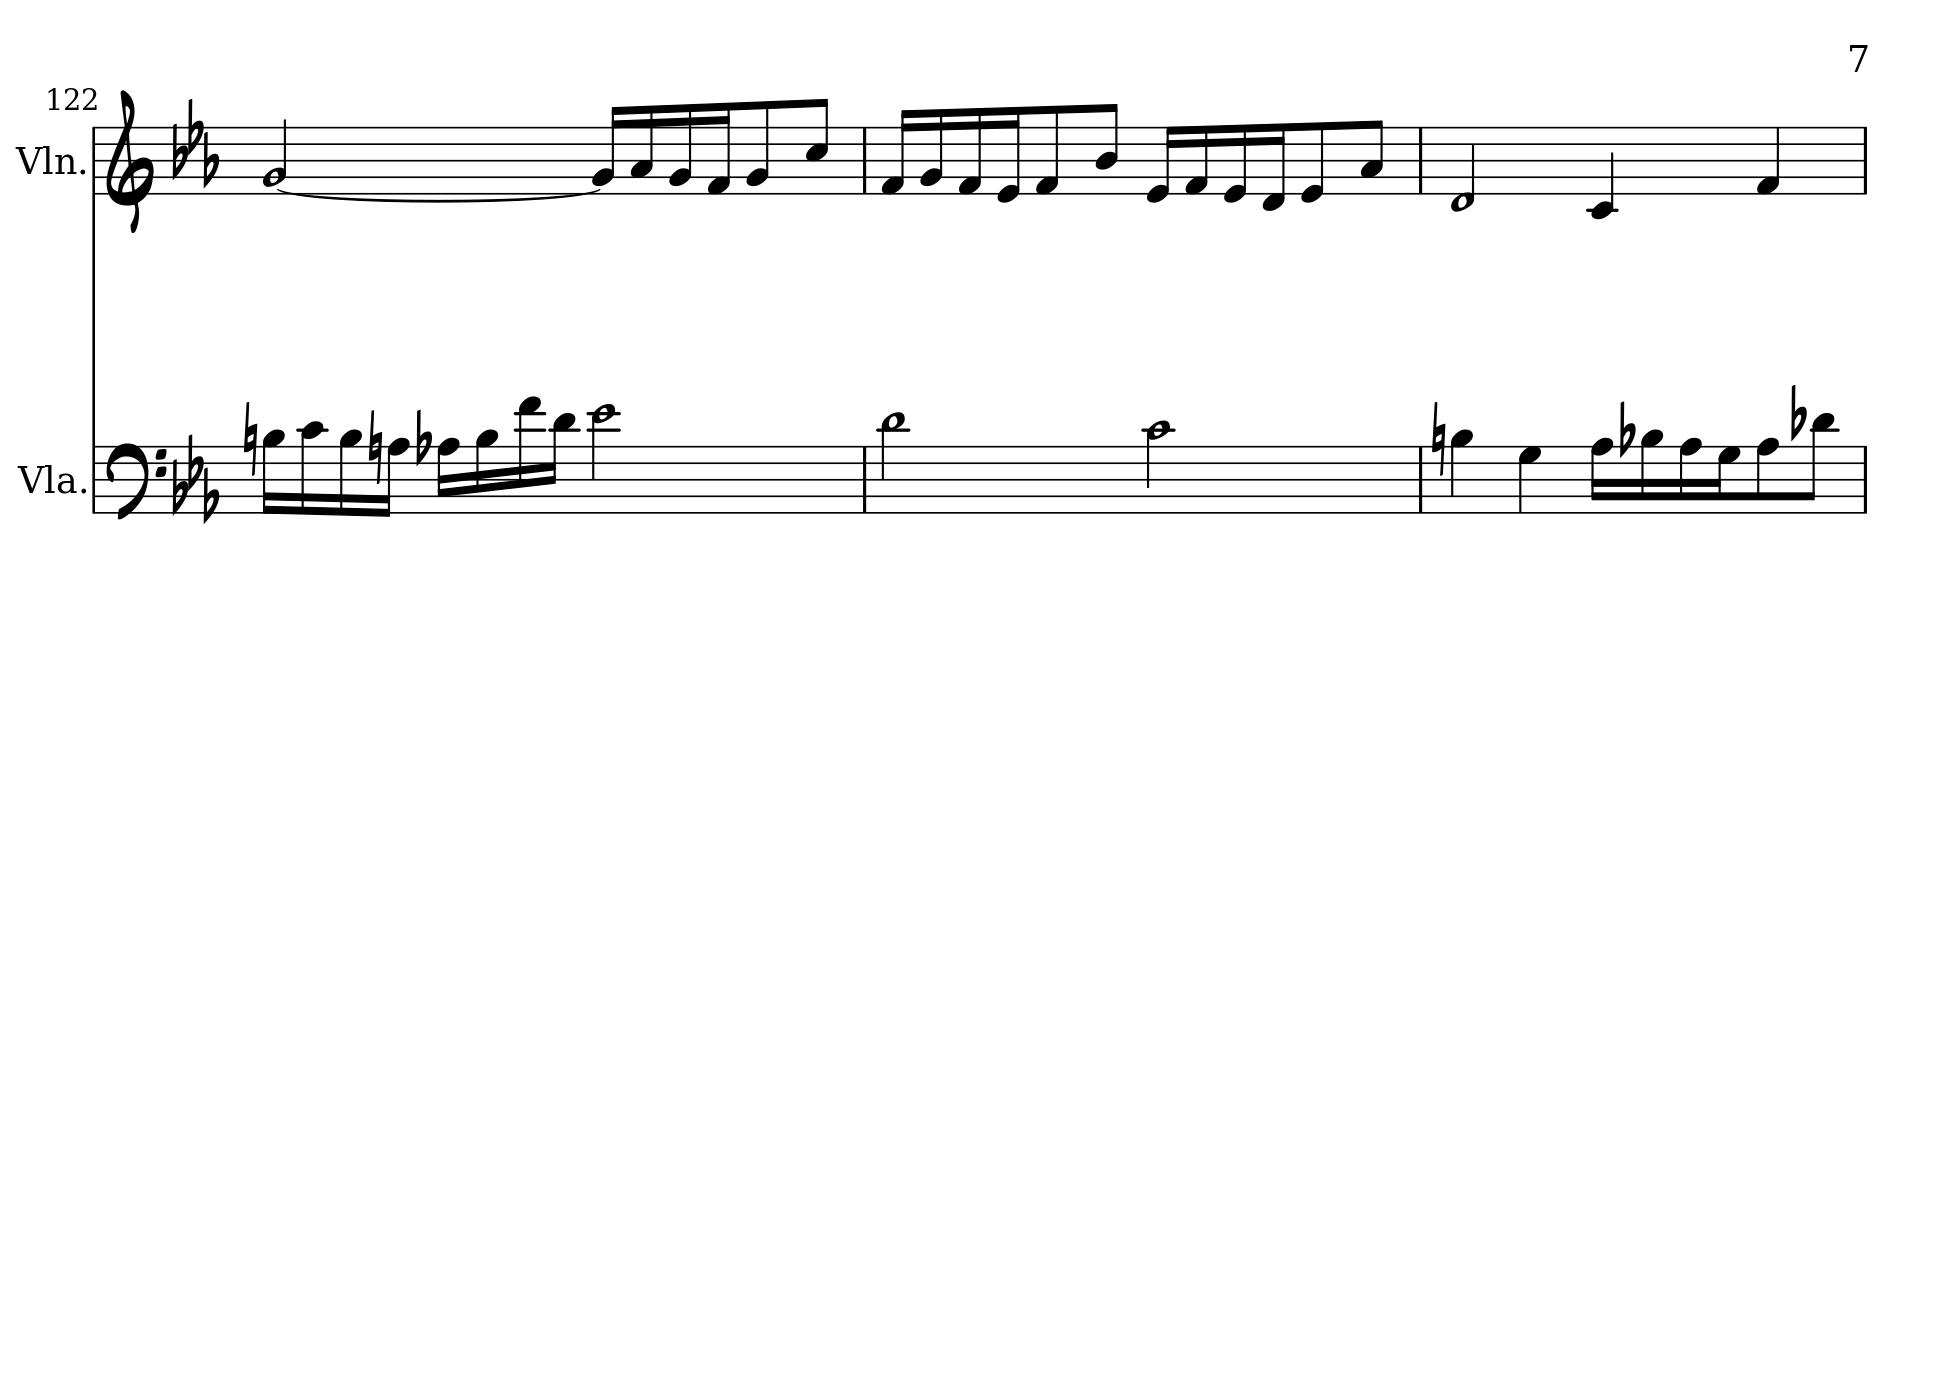1: (46, 85, 60, 112)
16_-1: (1260, 121, 1288, 213)
16_0: (994, 103, 1023, 205), (1144, 123, 1179, 205), (1221, 121, 1249, 205)
16_1: (877, 106, 913, 196), (703, 100, 733, 196), (955, 105, 984, 196), (1183, 123, 1212, 196)
16_10: (298, 418, 327, 517)
16_11: (544, 409, 577, 514)
16_13: (514, 394, 543, 514)
16_2: (589, 103, 624, 196), (667, 100, 694, 196), (918, 106, 945, 196)
16_3: (628, 103, 655, 196)
16_7: (1710, 442, 1740, 516)
16_8: (379, 436, 409, 519), (435, 436, 460, 514), (1588, 436, 1614, 514), (1677, 436, 1702, 514)
16_9: (472, 427, 498, 516), (1638, 426, 1663, 514), (261, 427, 285, 517), (337, 427, 361, 517)
2: (61, 85, 79, 112), (79, 85, 97, 112)
2_-1: (1449, 124, 1476, 213)
2_10: (1143, 417, 1174, 516)
2_11: (877, 409, 907, 516)
2_12: (588, 400, 619, 516)
2_2: (261, 117, 289, 196)
4_-2: (1588, 124, 1615, 220)
4_1: (1755, 124, 1782, 196)
4_7: (1518, 444, 1542, 514)
4_9: (1449, 427, 1473, 514)
7: (1848, 39, 1870, 73)
8_0: (1299, 120, 1327, 205)
8_1: (1033, 103, 1062, 196)
8_11: (1801, 411, 1837, 516)
8_2: (744, 99, 772, 196)
8_3: (1359, 117, 1386, 196)
8_4: (1093, 100, 1120, 196)
8_5: (802, 96, 829, 196)
8_8: (1755, 436, 1780, 516)
A_F: (169, 94, 220, 189), (169, 430, 220, 522)
Fclef: (103, 439, 168, 523)
Flat: (1788, 381, 1807, 442), (412, 408, 432, 466), (1617, 399, 1635, 462)
Gclef: (103, 87, 154, 234)
Natural: (241, 400, 259, 478), (1429, 400, 1447, 478), (367, 408, 384, 484)
Single_barline: (1857, 445, 1875, 514), (856, 126, 874, 193), (856, 445, 874, 511), (1413, 126, 1429, 193), (1857, 127, 1873, 193), (1413, 445, 1428, 511), (87, 126, 100, 193), (87, 445, 100, 513)
Vlc: (18, 457, 78, 501)
Vln: (16, 139, 76, 181)
